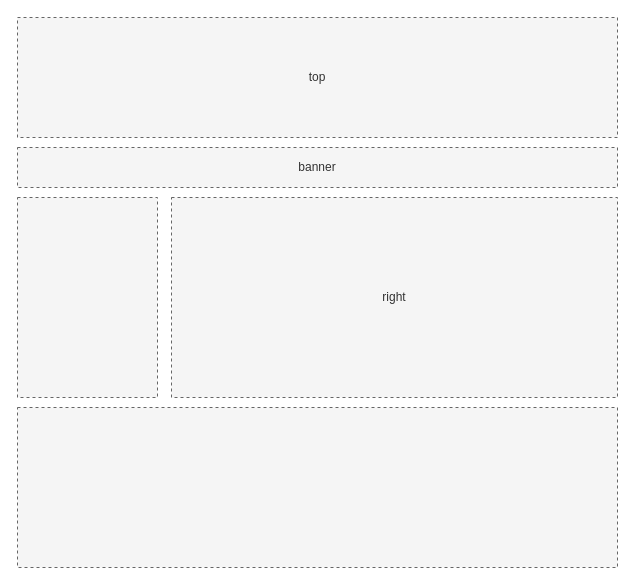
Image size: 635x585. Some labels were removed from this diagram. The centre of each missing label's shape, as x and y in pixels:
"footer" belongs at point (317, 487).
"left" belongs at point (87, 297).
